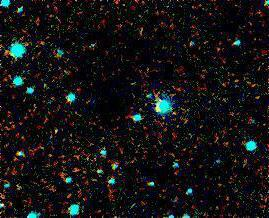star: (141, 92, 171, 122)
